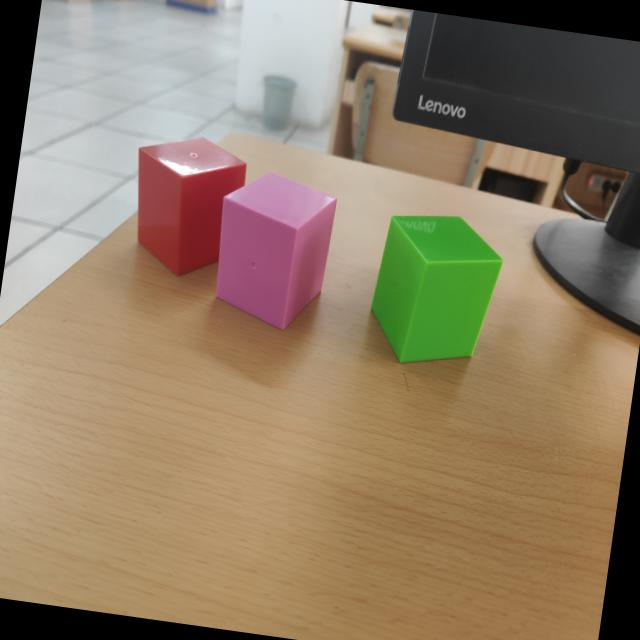green: (371, 216, 503, 366)
pink: (215, 174, 336, 332)
red: (137, 139, 247, 277)
